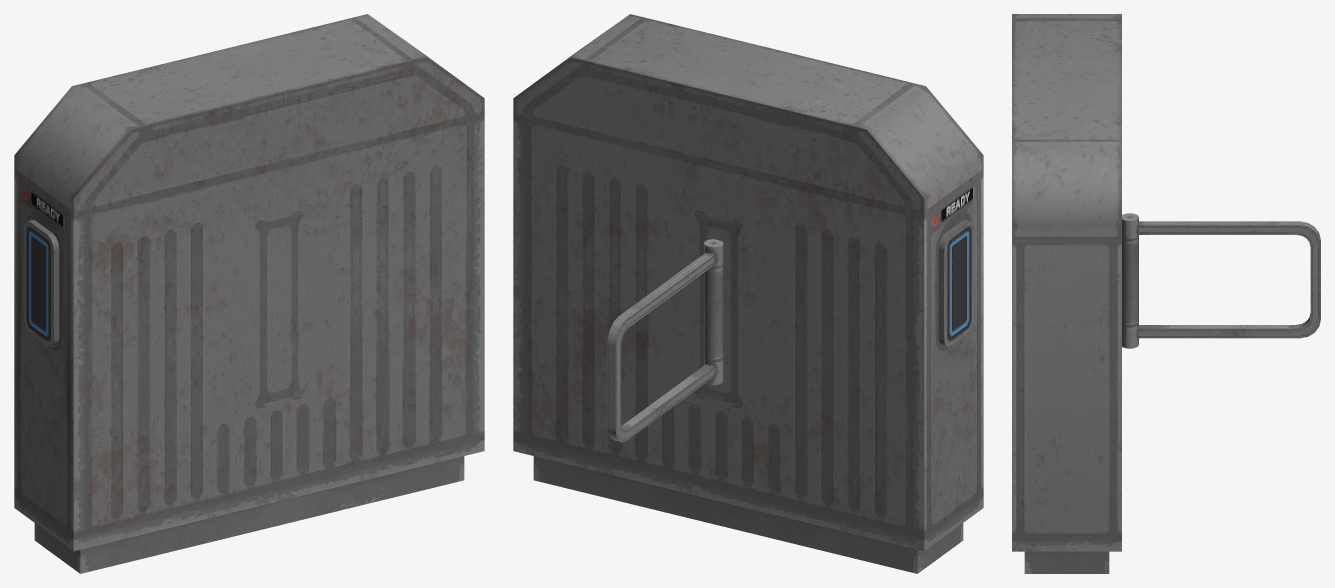
The model's file is CP_Metro_Turnstile.fbx.
The picture shows the model from 3 angles, left to right: view 1: azimuth 30°, elevation 25°; view 2: azimuth 150°, elevation 25°; view 3: azimuth 270°, elevation 25°; orthographic projection. The views are drawn at different scales.
Visible parts, largest first — view 1: CP_Metro_Turnstile; view 2: CP_Metro_Turnstile, CP_Metro_Turnstile_Door; view 3: CP_Metro_Turnstile, CP_Metro_Turnstile_Door.
Part boxes in pixels (x1,y1,x2,y2): CP_Metro_Turnstile: (14, 14, 484, 573); CP_Metro_Turnstile: (513, 14, 983, 573); CP_Metro_Turnstile_Door: (607, 239, 723, 442); CP_Metro_Turnstile: (1012, 14, 1121, 573); CP_Metro_Turnstile_Door: (1122, 213, 1320, 348).
Size of the model in its own units: 119 by 120 by 82.37.
